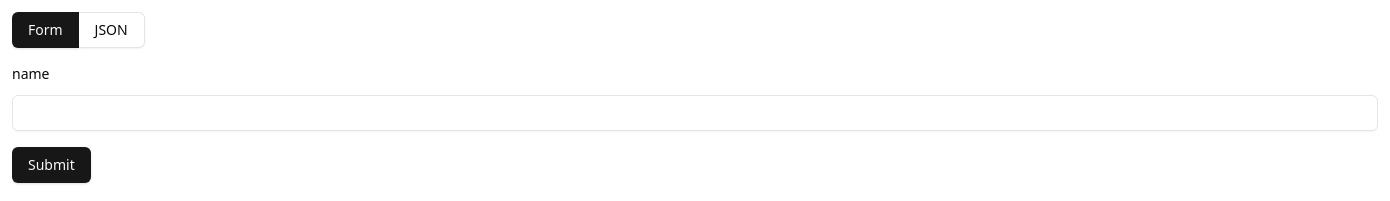
Test: Form › Form/JSON mode toggle › switches to JSON mode when JSON button is clicked
The image size is (1390, 201).
Click the button "JSON": point(112, 30) [79,12,145,48]
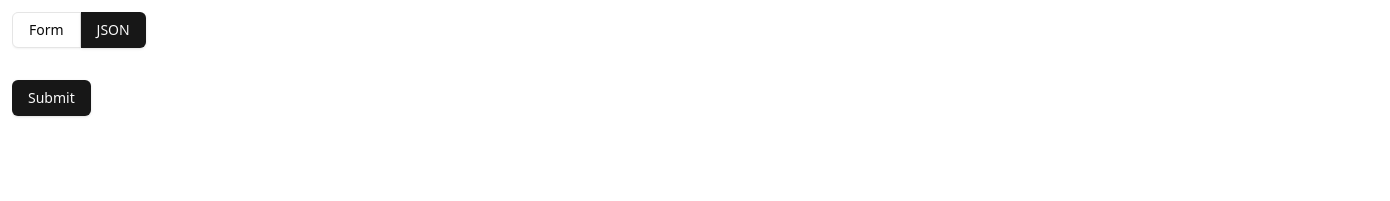
Expected: the label labelled "name" is gone
